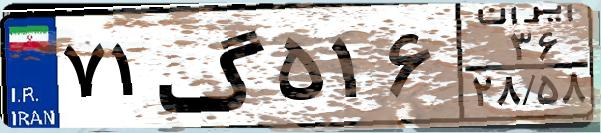1: (330, 28, 385, 110), (110, 28, 156, 98)
2: (470, 70, 495, 125)
3: (508, 27, 537, 80)
5: (270, 28, 330, 110), (535, 70, 560, 125)
6: (385, 28, 445, 110), (537, 27, 568, 80)
7: (57, 26, 110, 100)
8: (560, 70, 590, 125), (495, 70, 520, 125)
گ: (156, 12, 270, 120)
